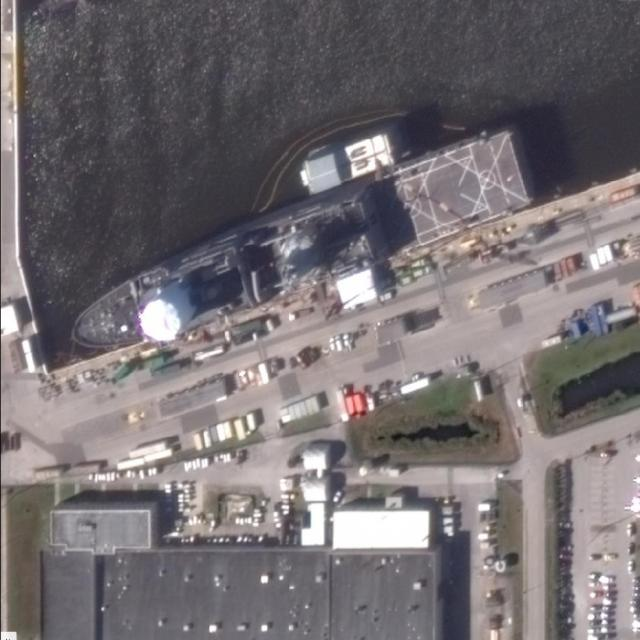Auxiliary Ships: (53, 125, 540, 374)
